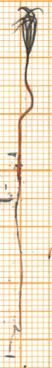flower: (5, 1, 46, 60)
root: (10, 167, 30, 334)
stem: (12, 53, 41, 166)
